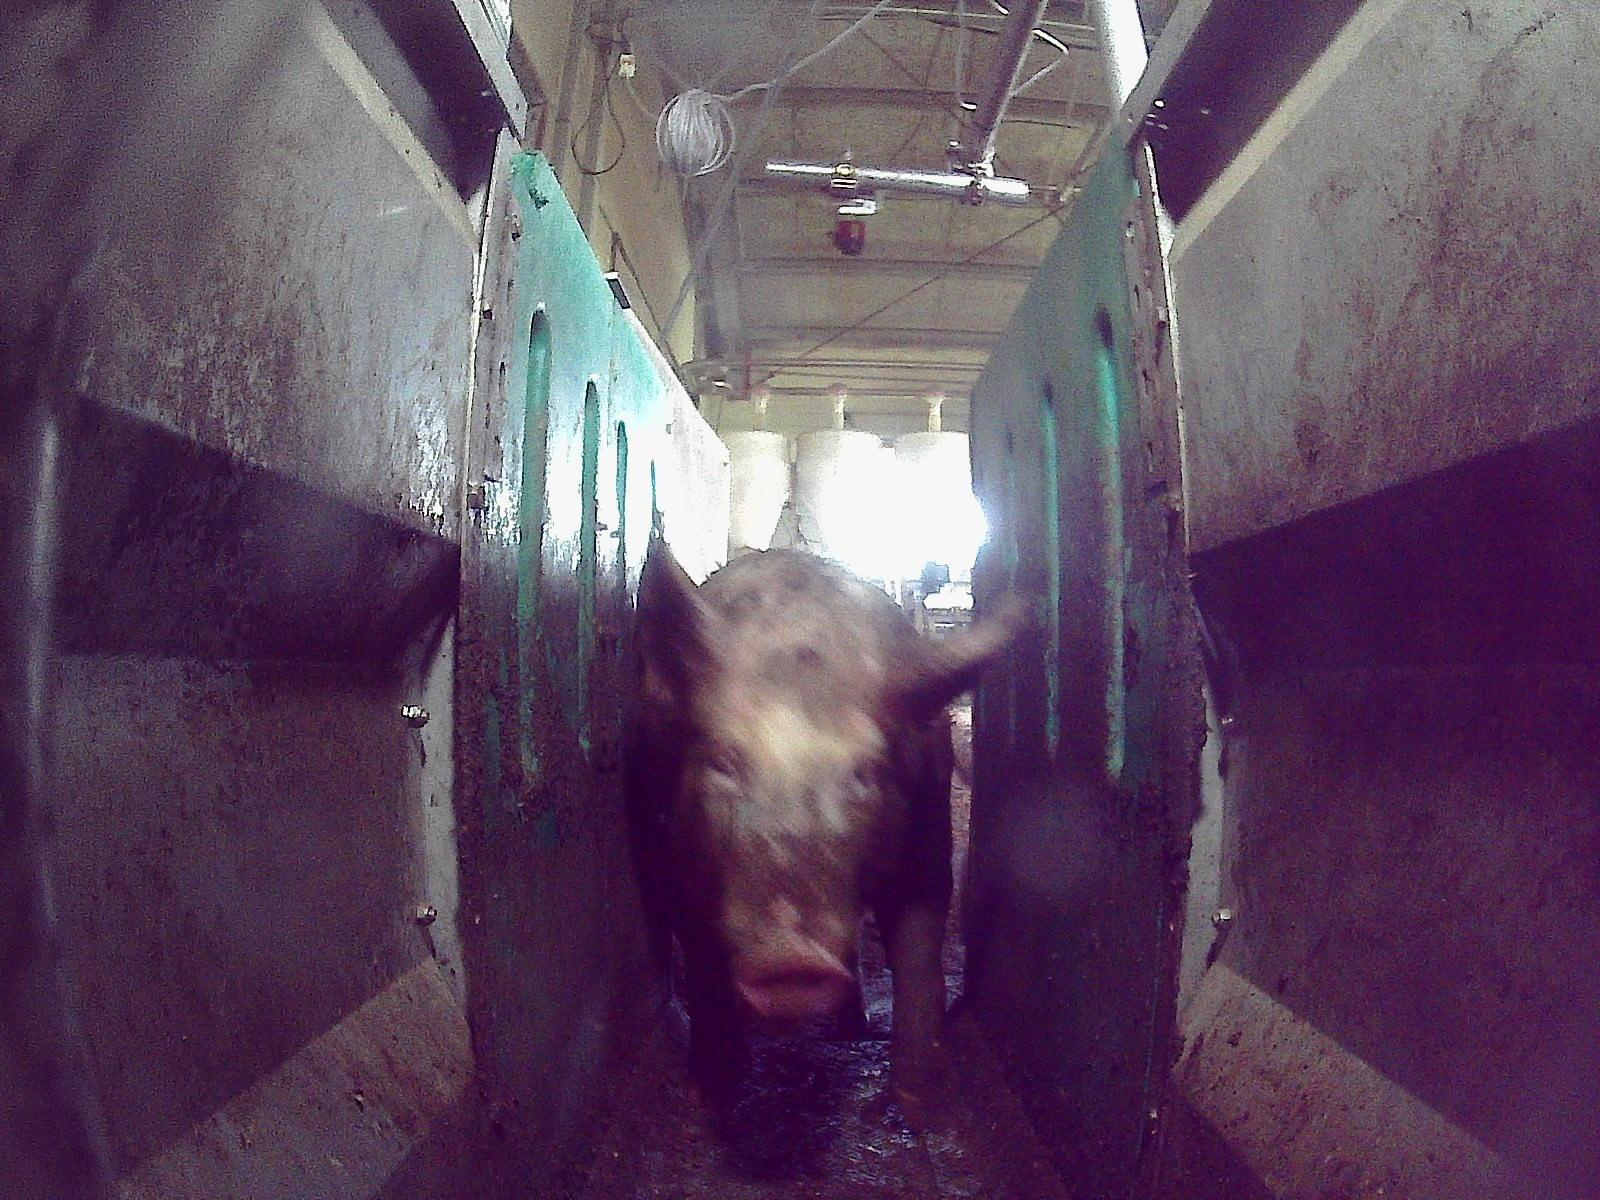Face: (689, 669, 904, 1014)
